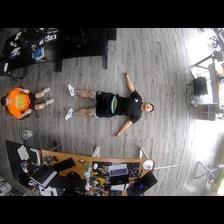fall: (64, 73, 154, 137)
normal: (1, 87, 56, 121)
